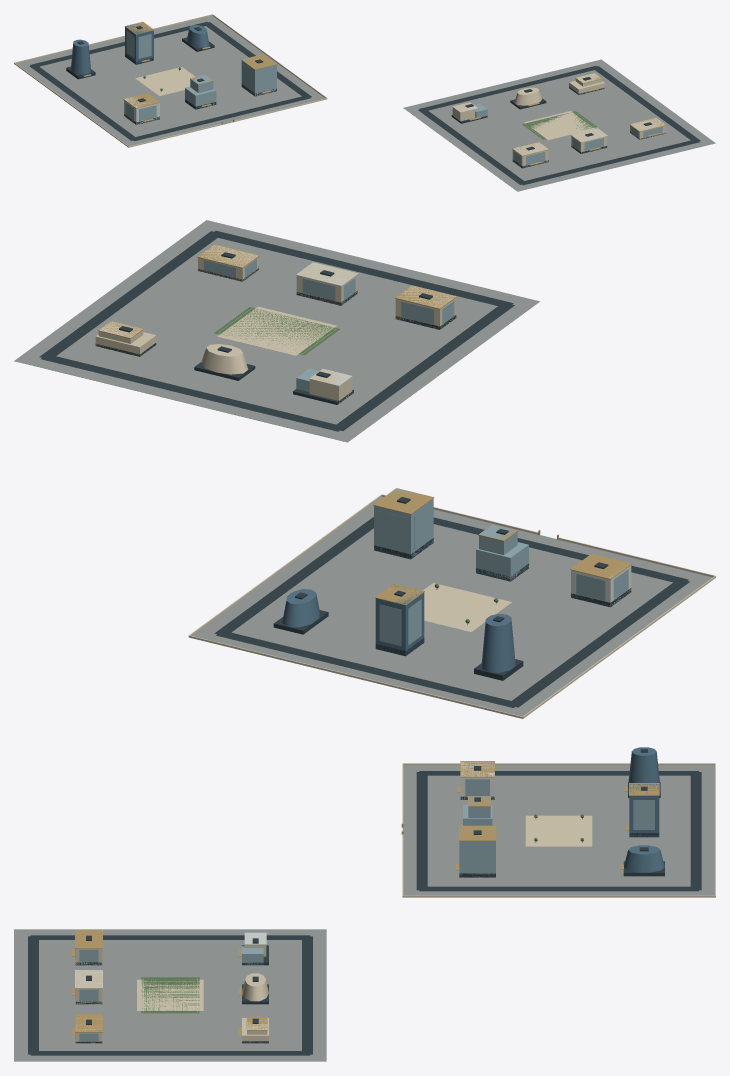
File: GC-TILE-01-01.glb
3 views of the same model, one above another, from view 1: azimuth 30°, elevation 25°; view 2: azimuth 150°, elevation 25°; view 3: azimuth 270°, elevation 25° (orthographic). The views are drawn at different scales.
Visible parts, largest first — view 1: GC-TILE-01-01-paving, GC-TILE-01-01-dark, GC-TILE-01-01-ivory, GC-TILE-01-01-glass, GC-TILE-01-01-blue, GC-TILE-01-01-gold, GC-TILE-01-01-white, GC-TILE-01-01-field; view 2: GC-TILE-01-01-paving, GC-TILE-01-01-dark, GC-TILE-01-01-ivory, GC-TILE-01-01-glass, GC-TILE-01-01-gold, GC-TILE-01-01-blue, GC-TILE-01-01-field, GC-TILE-01-01-white; view 3: GC-TILE-01-01-paving, GC-TILE-01-01-dark, GC-TILE-01-01-ivory, GC-TILE-01-01-glass, GC-TILE-01-01-gold, GC-TILE-01-01-blue, GC-TILE-01-01-field, GC-TILE-01-01-white.
Part boxes in pixels (<box>): GC-TILE-01-01-paving: <box>16,15,715,191</box>; GC-TILE-01-01-dark: <box>29,22,700,185</box>; GC-TILE-01-01-ivory: <box>14,14,666,167</box>; GC-TILE-01-01-glass: <box>125,31,662,165</box>; GC-TILE-01-01-blue: <box>71,22,209,74</box>; GC-TILE-01-01-gold: <box>83,21,666,165</box>; GC-TILE-01-01-white: <box>124,97,607,142</box>; GC-TILE-01-01-field: <box>522,111,596,139</box>; GC-TILE-01-01-paving: <box>14,220,712,716</box>; GC-TILE-01-01-dark: <box>39,230,689,707</box>; GC-TILE-01-01-ivory: <box>95,245,715,718</box>; GC-TILE-01-01-glass: <box>204,259,628,646</box>; GC-TILE-01-01-gold: <box>98,244,632,658</box>; GC-TILE-01-01-blue: <box>282,584,515,672</box>; GC-TILE-01-01-field: <box>214,307,339,355</box>; GC-TILE-01-01-white: <box>218,262,631,606</box>; GC-TILE-01-01-paving: <box>14,765,714,1061</box>; GC-TILE-01-01-dark: <box>28,749,701,1055</box>; GC-TILE-01-01-ivory: <box>75,763,715,1043</box>; GC-TILE-01-01-glass: <box>75,779,654,1041</box>; GC-TILE-01-01-gold: <box>72,761,659,1034</box>; GC-TILE-01-01-blue: <box>624,747,664,872</box>; GC-TILE-01-01-field: <box>141,977,199,1013</box>; GC-TILE-01-01-white: <box>75,761,494,1012</box>.
Size of the model in its own units: 758 by 51.47 by 758.
